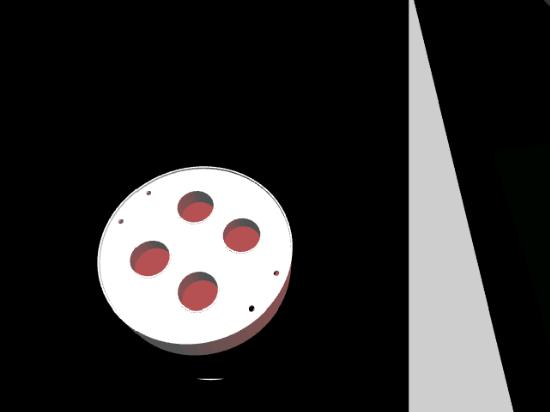hole: (174, 268, 220, 315), (127, 236, 172, 281), (219, 215, 264, 257), (175, 184, 217, 227)
